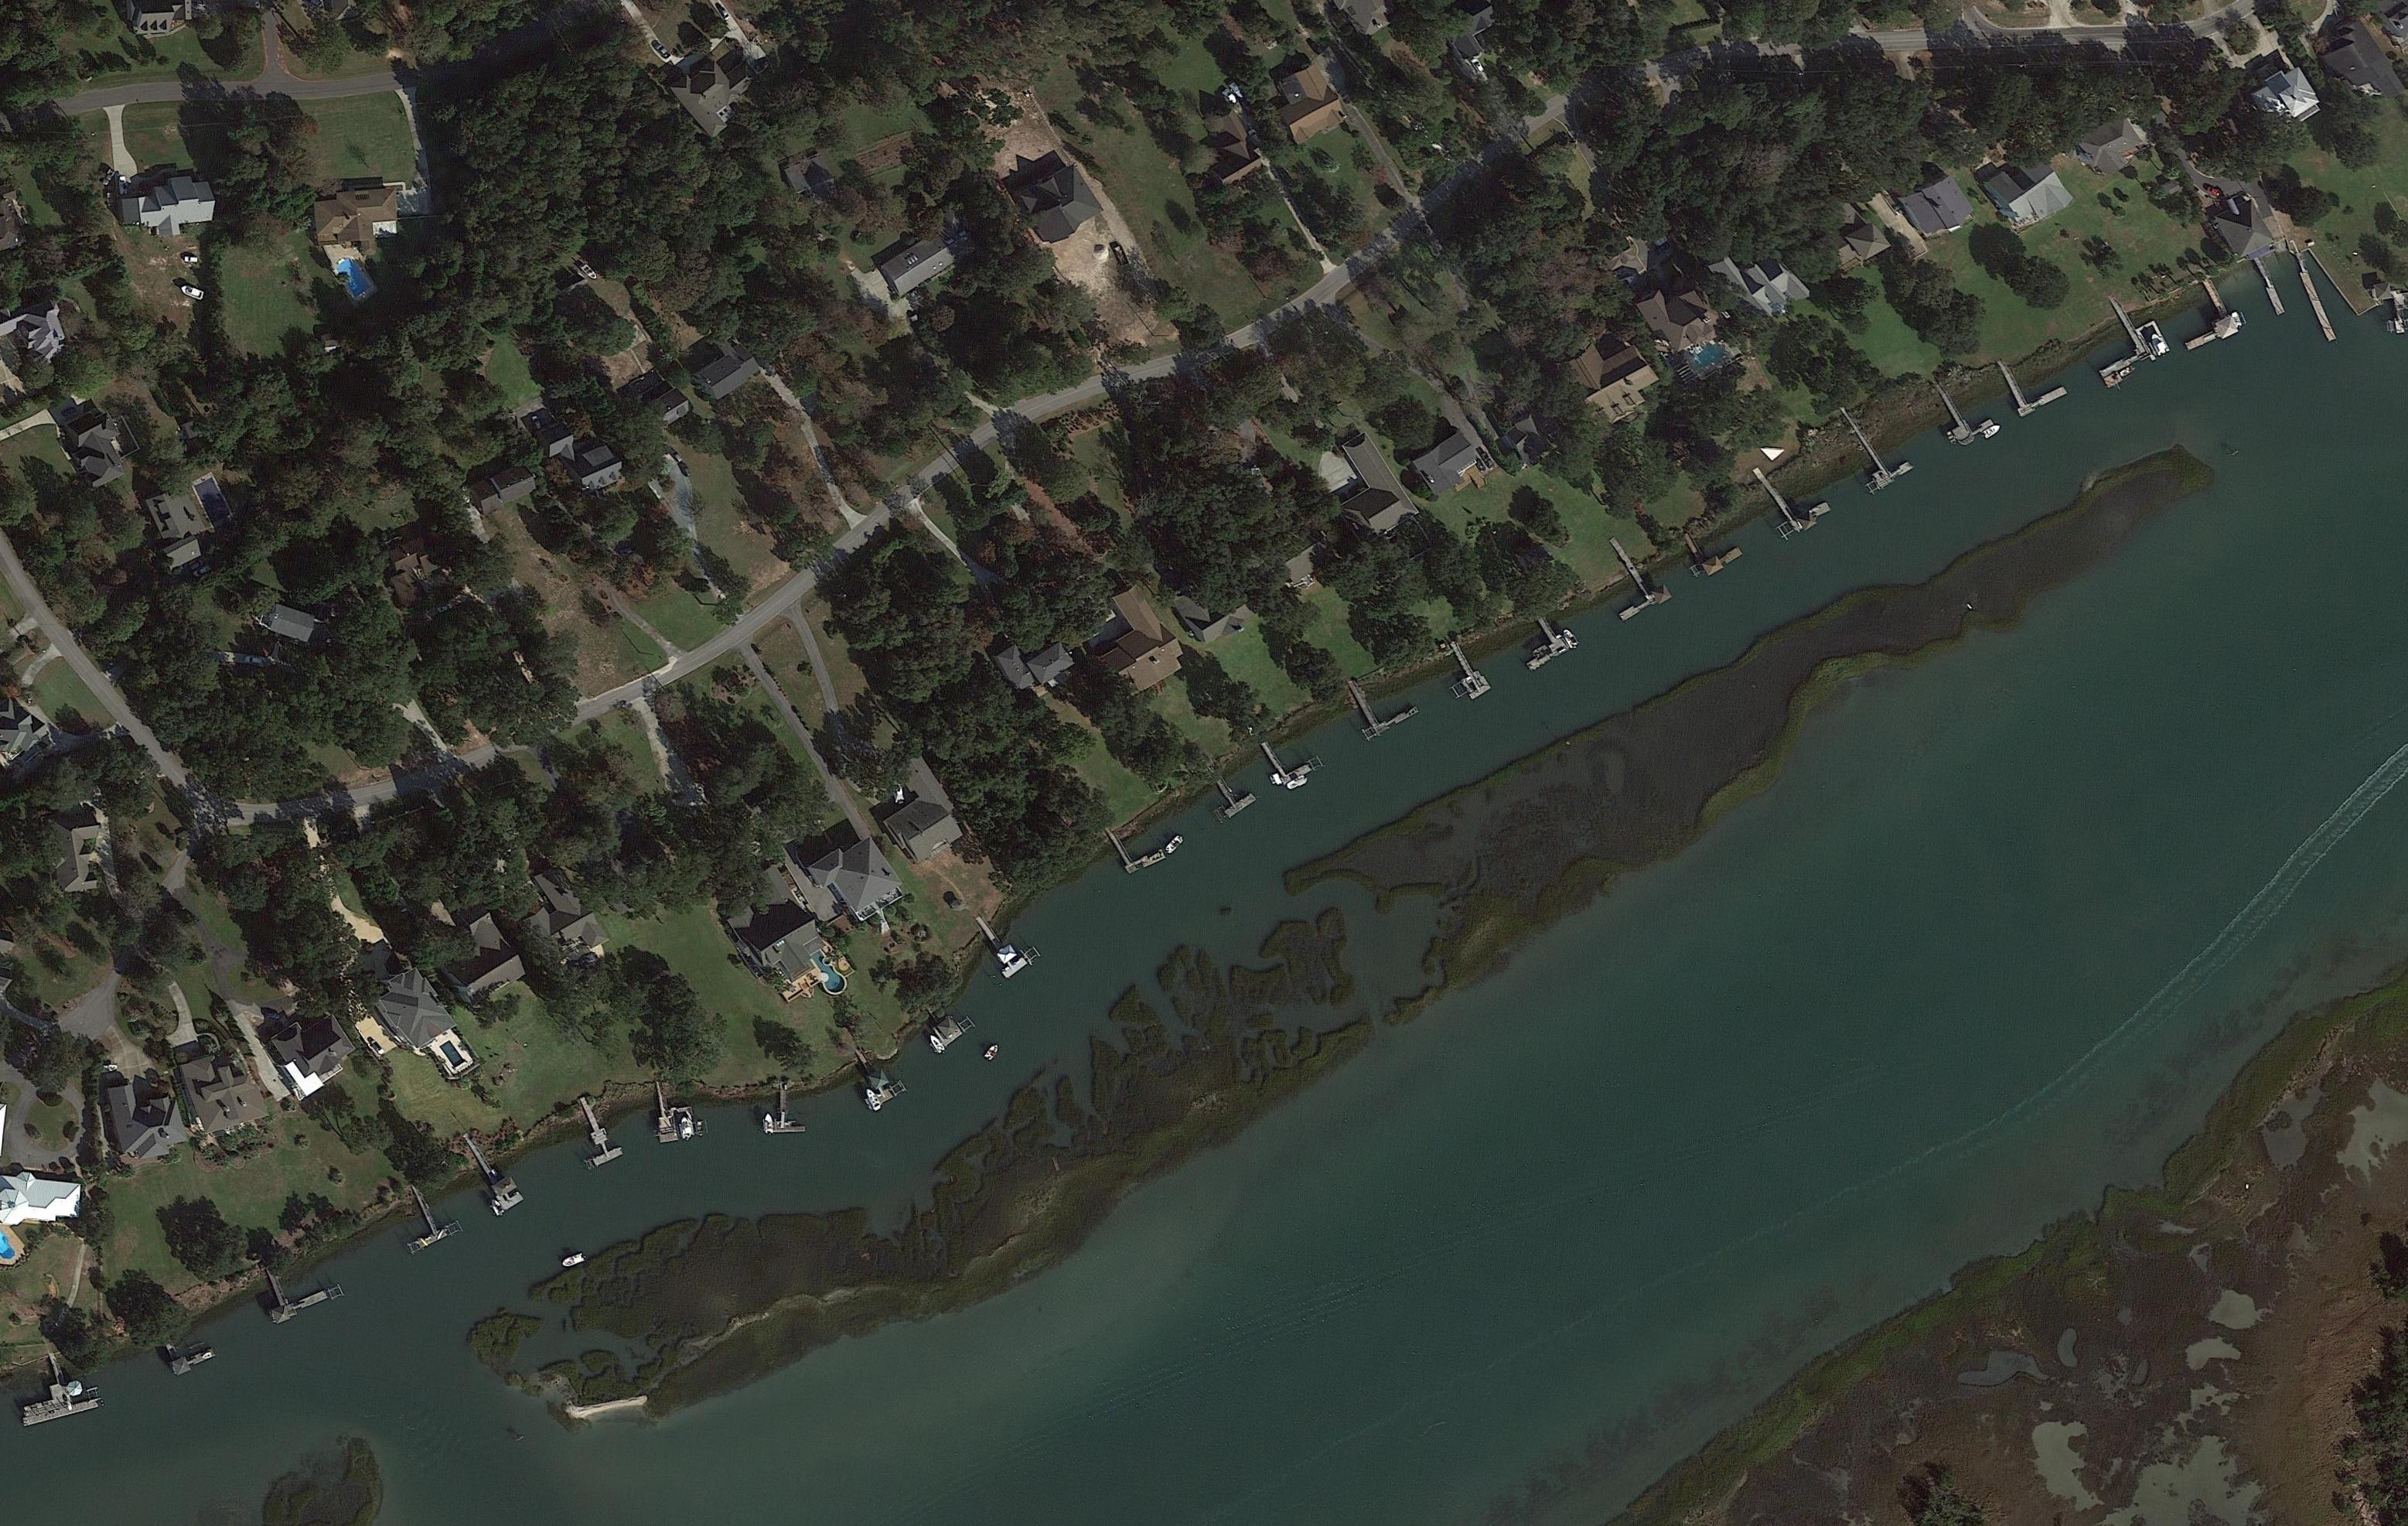harbor: (1585, 530, 1673, 629), (11, 1345, 98, 1428), (2071, 295, 2154, 381), (1838, 400, 1915, 490), (1759, 455, 1836, 536), (254, 1256, 333, 1328), (2168, 279, 2240, 356), (1996, 344, 2069, 418), (1348, 666, 1420, 736), (1931, 374, 1997, 448), (465, 1136, 525, 1213), (567, 1094, 625, 1168), (971, 910, 1028, 980), (2294, 253, 2338, 342), (397, 1180, 451, 1250), (1106, 815, 1165, 878), (1509, 613, 1571, 673), (1685, 520, 1745, 578), (1443, 643, 1494, 702), (1260, 731, 1313, 787), (163, 1328, 218, 1377), (853, 1048, 897, 1105), (1208, 769, 1257, 818), (2252, 256, 2287, 316), (921, 1001, 964, 1047), (651, 1082, 679, 1145), (772, 1085, 806, 1133)
ship: (1164, 832, 1186, 855), (179, 283, 205, 302), (2148, 332, 2168, 356), (560, 1252, 586, 1270), (1283, 773, 1308, 790), (864, 1089, 881, 1113), (579, 262, 600, 281), (927, 1033, 946, 1054), (1562, 627, 1580, 650), (1480, 450, 1497, 472), (1983, 421, 2003, 439), (655, 40, 672, 60), (983, 1041, 1000, 1061), (716, 4, 734, 21), (1469, 56, 1485, 74), (370, 1040, 386, 1057), (490, 1199, 504, 1217), (681, 1119, 692, 1140), (765, 1112, 774, 1134), (1474, 458, 1487, 474)
